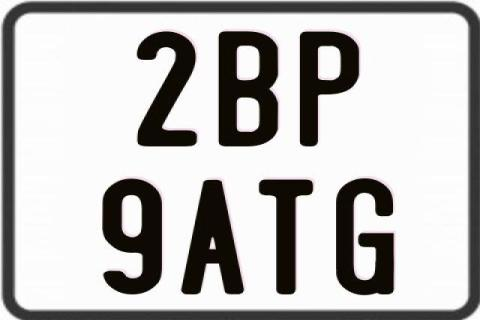0: (134, 29, 198, 150), (100, 178, 162, 298)
A: (178, 180, 242, 296)
B: (219, 30, 278, 150)
G: (333, 176, 392, 293)
P: (299, 29, 359, 145)
T: (257, 178, 313, 296)
